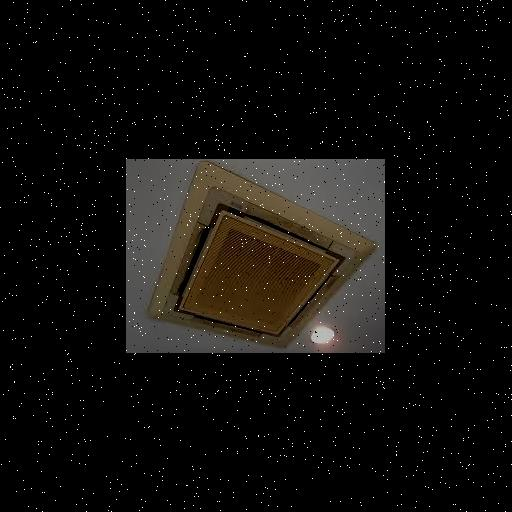4-way-ac: (144, 161, 377, 349)
